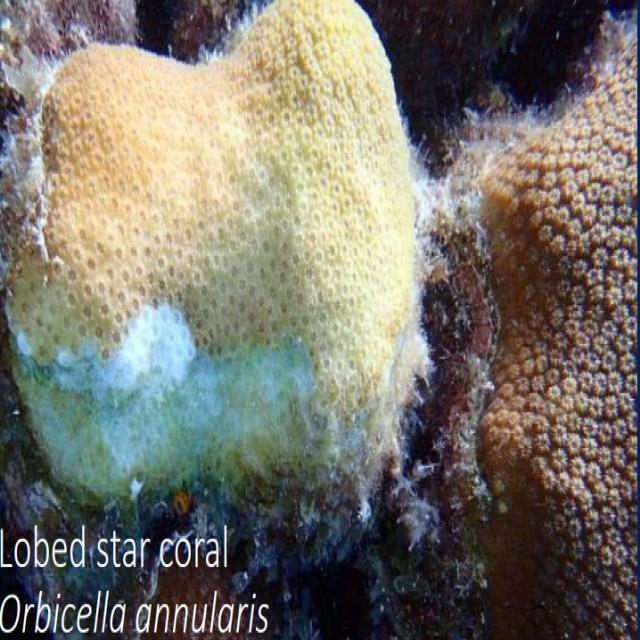Coral: (3, 0, 437, 571), (474, 31, 640, 640)
